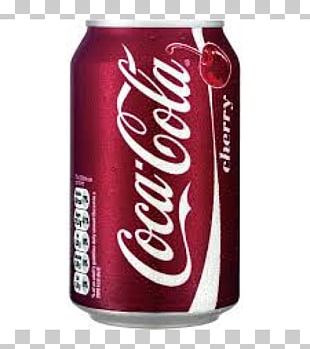coke: (68, 20, 243, 321)
